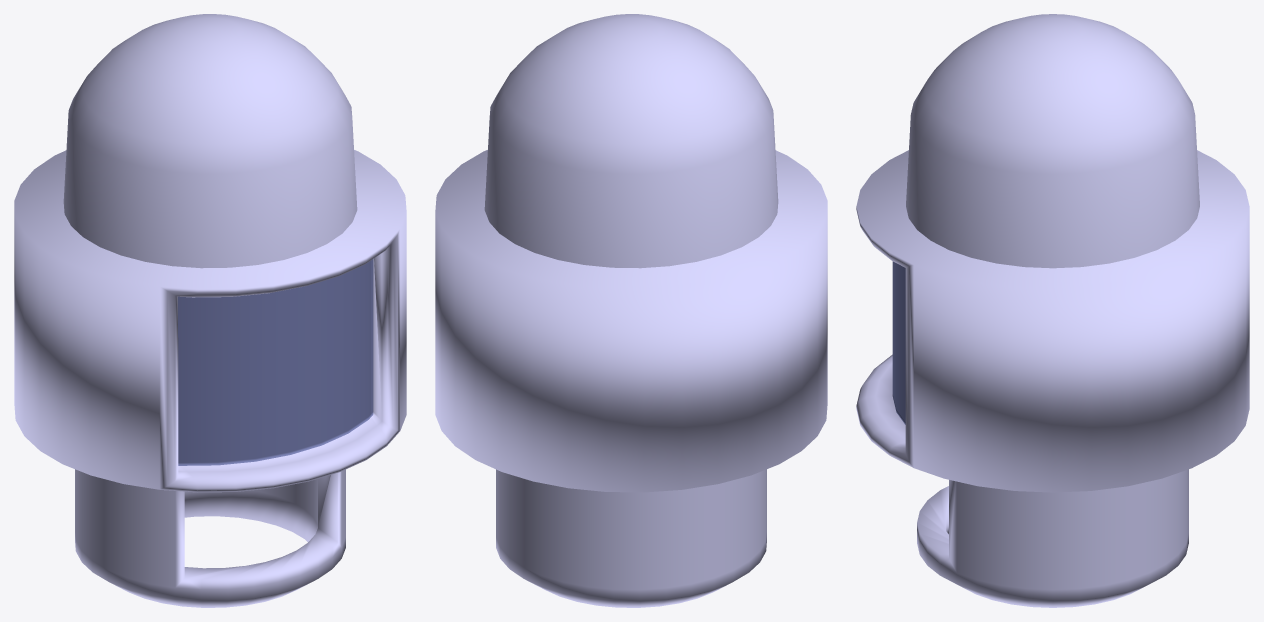
The model's file is NewTubeProbV2.fbx.
3 renders of one model, left to right at view 1: azimuth 30°, elevation 25°; view 2: azimuth 150°, elevation 25°; view 3: azimuth 270°, elevation 25°, orthographic.
Parts seen in each view (by area): view 1: Cylinder.001; view 2: Cylinder.001; view 3: Cylinder.001.
Part boxes in pixels (bbox=[...]): Cylinder.001: bbox=[14, 14, 406, 607]; Cylinder.001: bbox=[435, 14, 827, 607]; Cylinder.001: bbox=[856, 14, 1249, 607].
Bounding box in the file's own units: 200 × 300 × 200.
